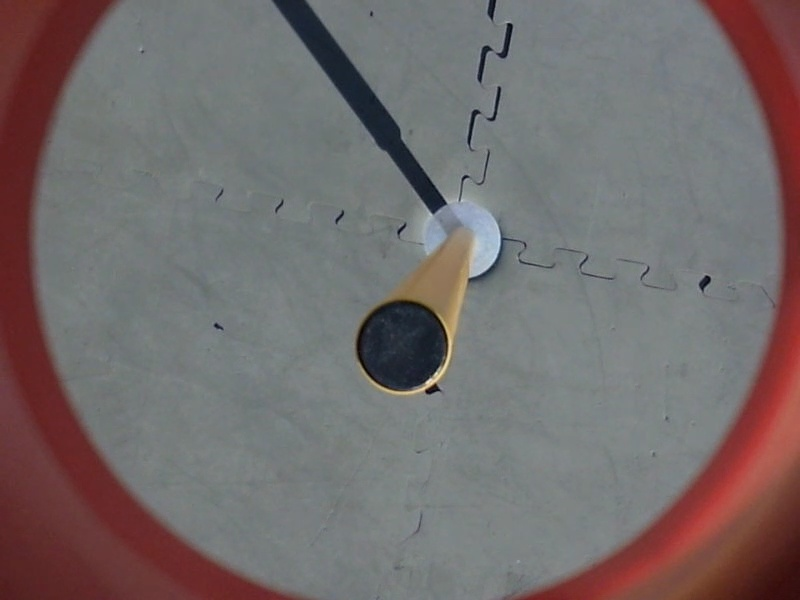tip: (354, 289, 457, 396)
